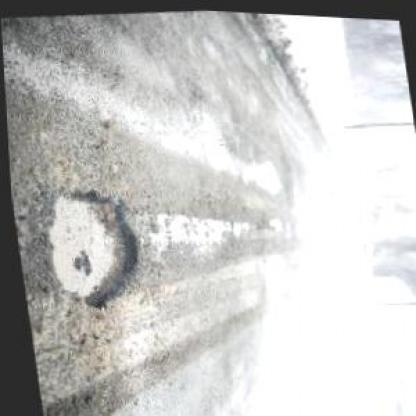pothole: (34, 179, 150, 316)
